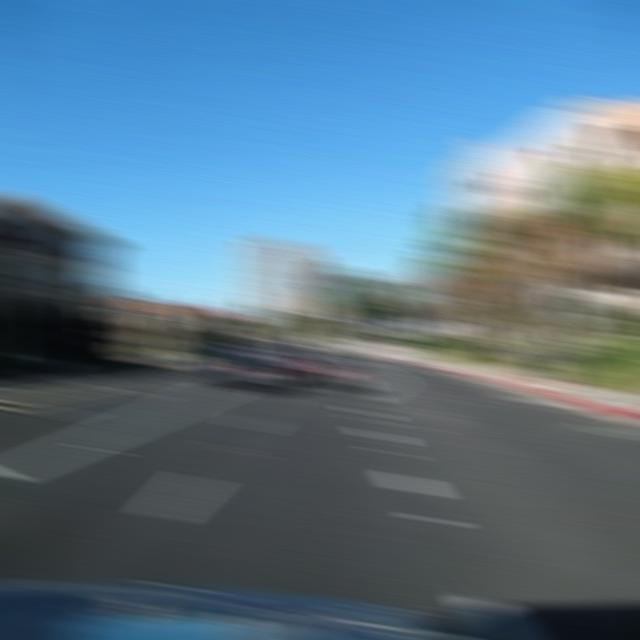speedLimit25: (544, 291, 582, 320)
